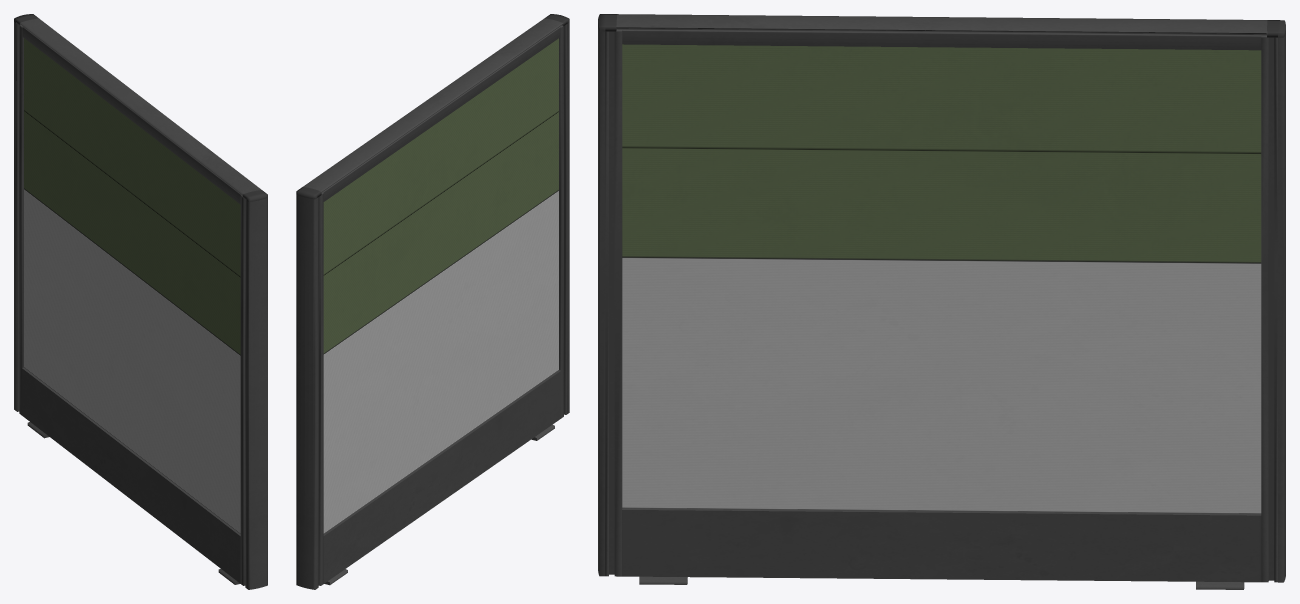
File: Cubicle.fbx
The picture shows the model from 3 angles, left to right: view 1: azimuth 30°, elevation 25°; view 2: azimuth 150°, elevation 25°; view 3: azimuth 270°, elevation 25°; orthographic projection. The views are drawn at different scales.
Parts seen in each view (by area): view 1: Cubicle; view 2: Cubicle; view 3: Cubicle.
Part boxes in pixels (<box>): Cubicle: <box>14,14,267,589</box>; Cubicle: <box>296,14,569,589</box>; Cubicle: <box>598,14,1285,589</box>.
Size of the model in its own units: 0.1175 by 1.58 by 1.77.
